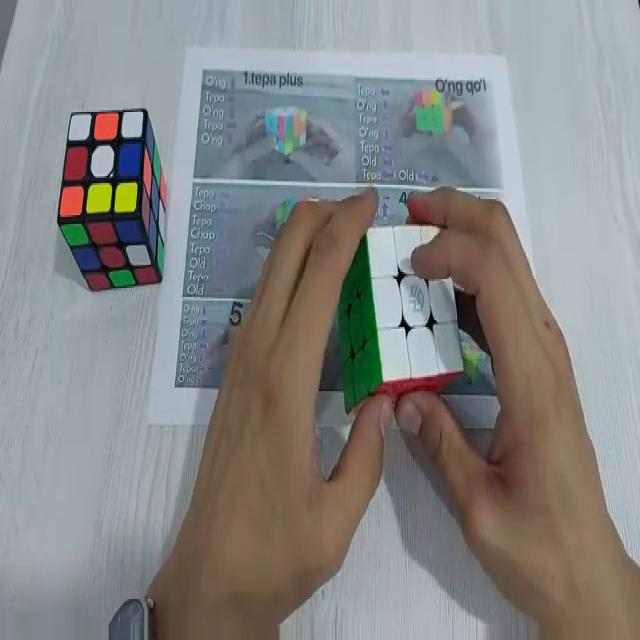Rub: (341, 222, 464, 416), (60, 102, 165, 296)
